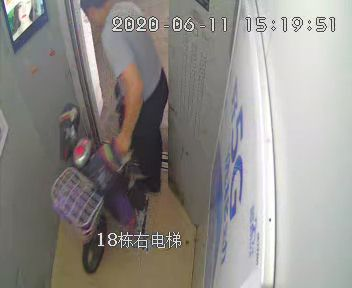Electric-bicycle: (53, 102, 149, 274)
